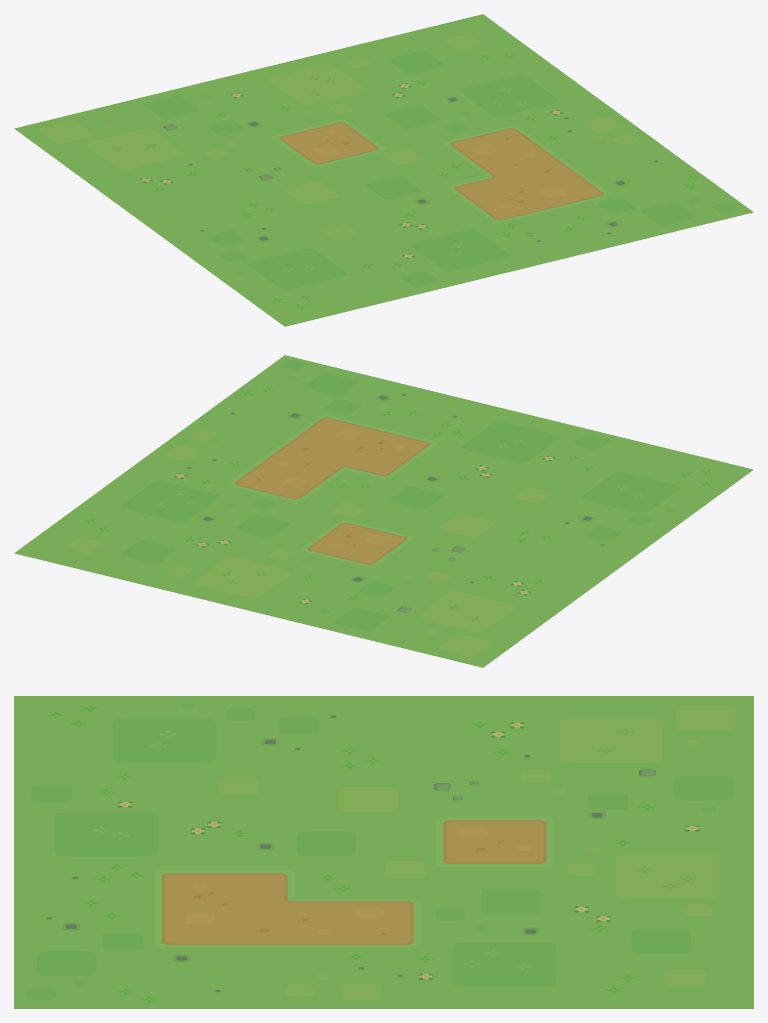
File: C_grass1_03.fbx
3 renders of one model, top to bottom at view 1: azimuth 30°, elevation 25°; view 2: azimuth 150°, elevation 25°; view 3: azimuth 270°, elevation 25°, orthographic. The views are drawn at different scales.
Parts seen in each view (by area): view 1: C_grass1_03; view 2: C_grass1_03; view 3: C_grass1_03.
Boxes of the visible parts, x1,y1,x2,y2 form: C_grass1_03: (14,14,753,326); C_grass1_03: (14,355,753,667); C_grass1_03: (14,696,753,1008).
Size of the model in its own units: 50 by 0.1888 by 50.
